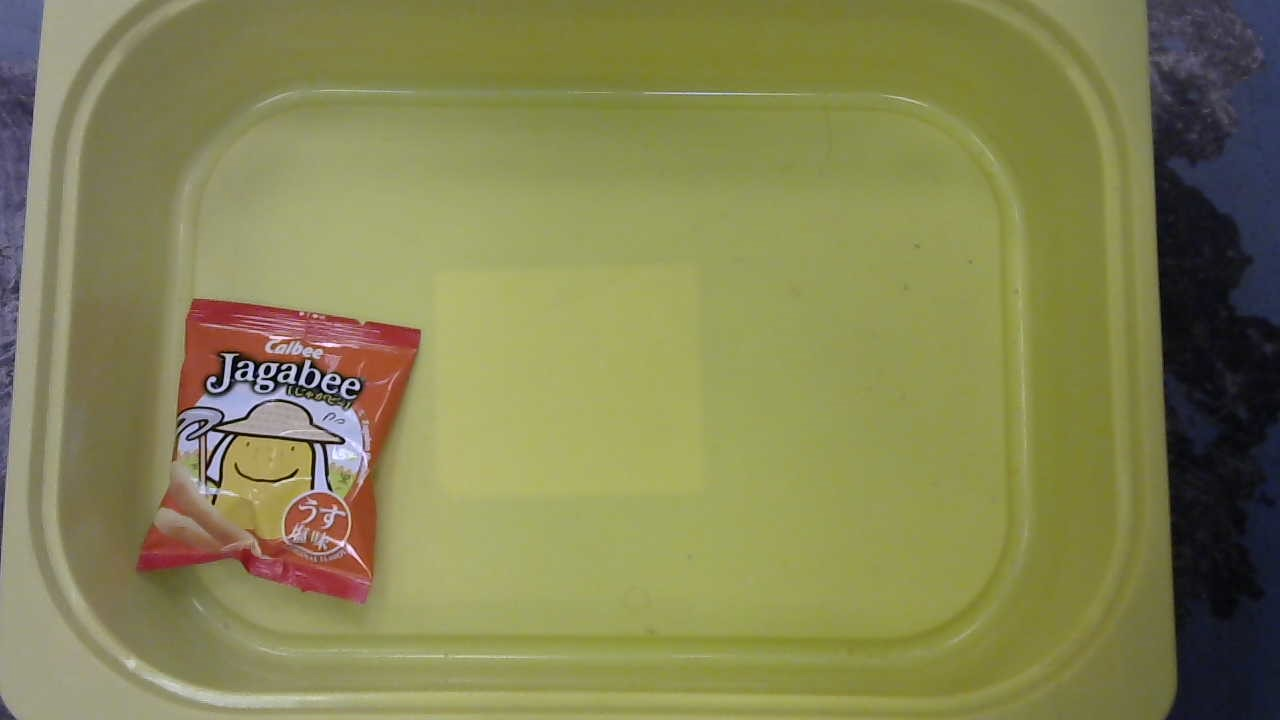JagabeeFarmer: (128, 291, 421, 609)
